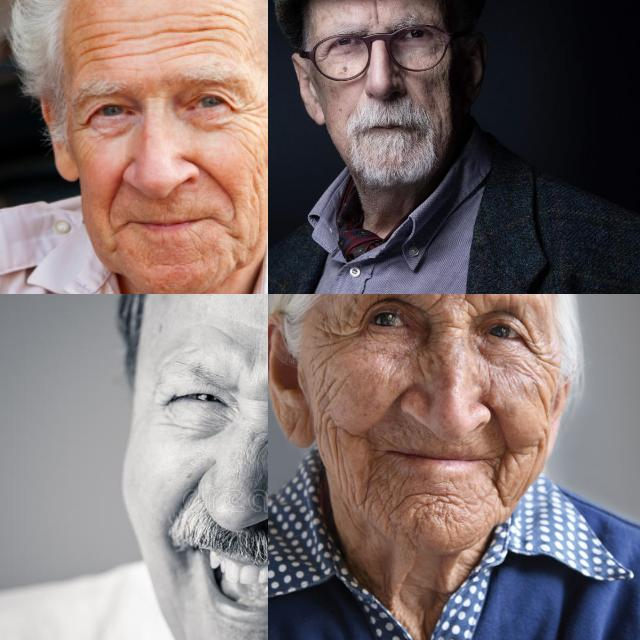bunny_line: (416, 346, 444, 380), (257, 425, 268, 457)
chin: (398, 486, 468, 522), (152, 256, 198, 272)
crows_feet: (314, 314, 368, 356), (524, 336, 554, 384), (227, 95, 257, 123), (70, 115, 92, 136), (316, 46, 328, 66)
forehead: (183, 20, 230, 52), (201, 0, 242, 28), (206, 321, 244, 349), (76, 31, 105, 65), (119, 24, 171, 40)
frown_line: (430, 294, 475, 329), (367, 0, 389, 26)
gummy_smile: (197, 158, 236, 200), (486, 405, 514, 459), (372, 385, 412, 421), (170, 476, 198, 516), (107, 167, 127, 215)
masseter: (318, 380, 348, 470), (529, 378, 559, 428), (245, 171, 265, 215), (530, 428, 548, 472), (434, 108, 448, 142)
sad_smile: (362, 436, 383, 490), (488, 458, 512, 504), (223, 222, 244, 252)
